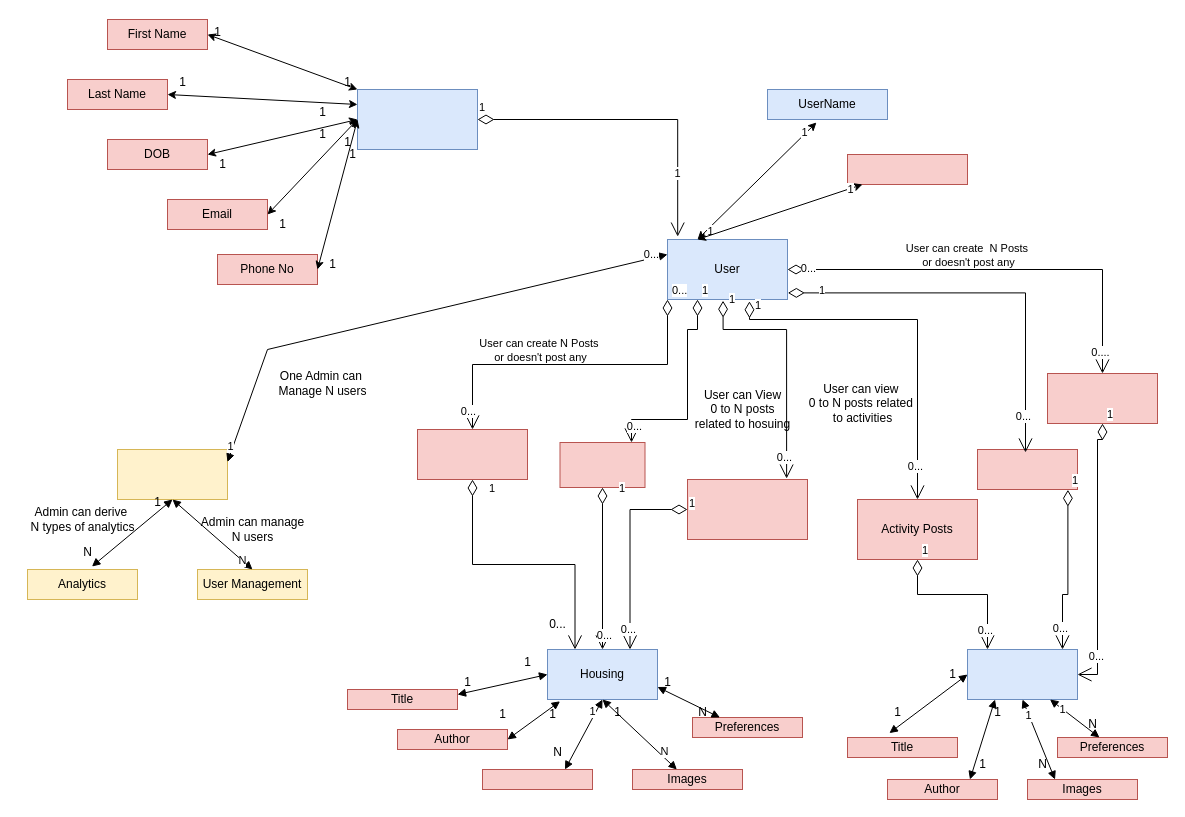
Some shapes in this 1185 by 817 pixel diagram are drawn without their labels. Here are the shapes that lost their labels. From the top down, the centre of each, then its label:
point (417, 119): Person
point (907, 169): Password
point (1102, 398): Created Activities Posts
point (172, 474): Admin
point (472, 454): Created Housing Posts
point (602, 465): Saved Housing Posts
point (1027, 469): Saved Activity Posts
point (747, 509): Housing Posts
point (1022, 674): Activity
point (537, 779): Benefits
